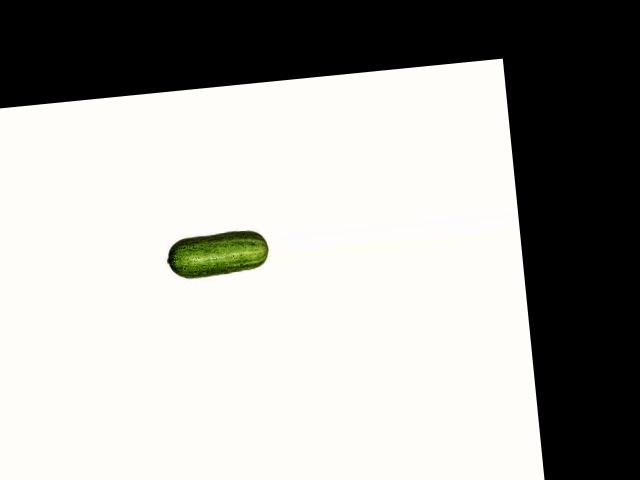cucumber: (164, 228, 270, 279)
